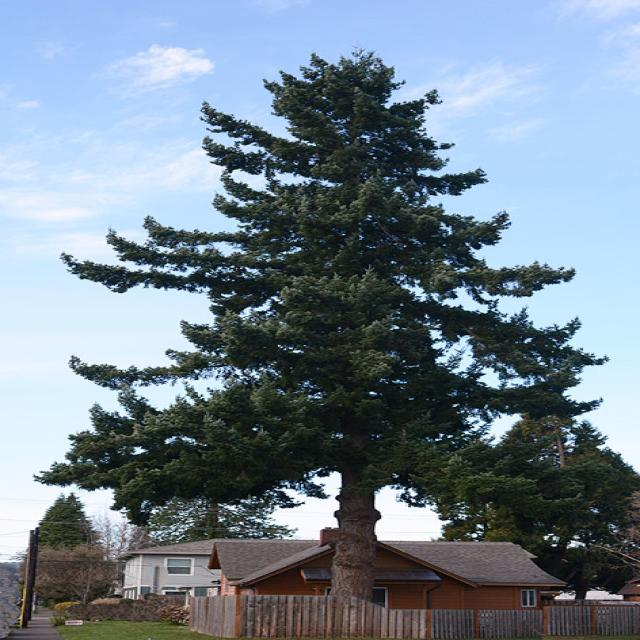Pseudotsuga menziesii: (52, 37, 615, 616)
